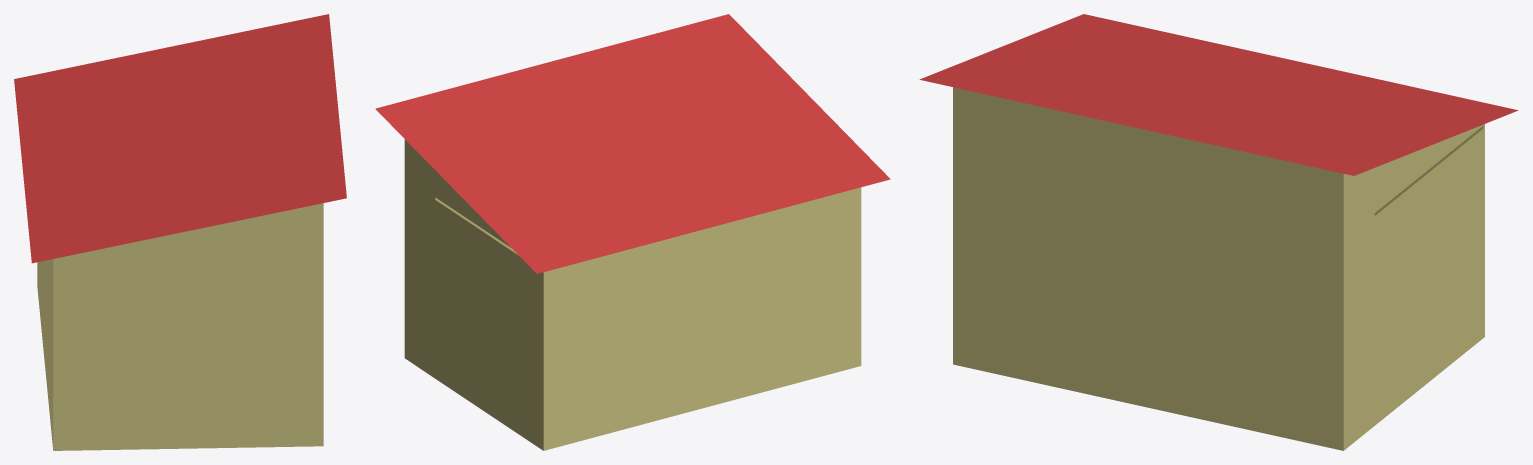
3 renders of one model, left to right at view 1: azimuth 30°, elevation 25°; view 2: azimuth 150°, elevation 25°; view 3: azimuth 270°, elevation 25°, orthographic. The views are drawn at different scales.
Size of the model in its own units: 16.19 by 17.91 by 9.53.
